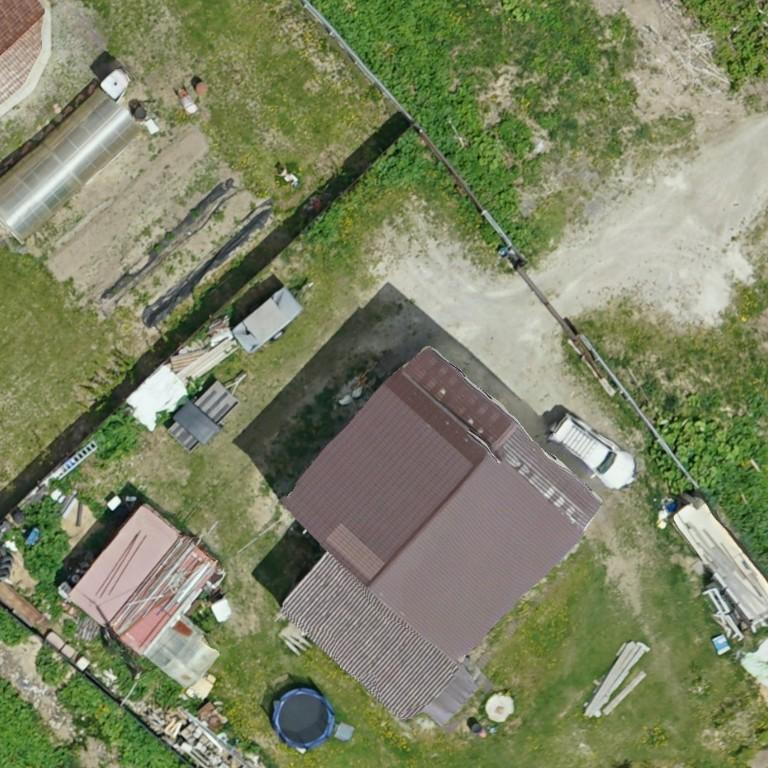hogweed: (309, 0, 513, 221), (62, 678, 187, 767), (364, 131, 451, 190), (18, 497, 68, 599), (0, 682, 57, 767)
